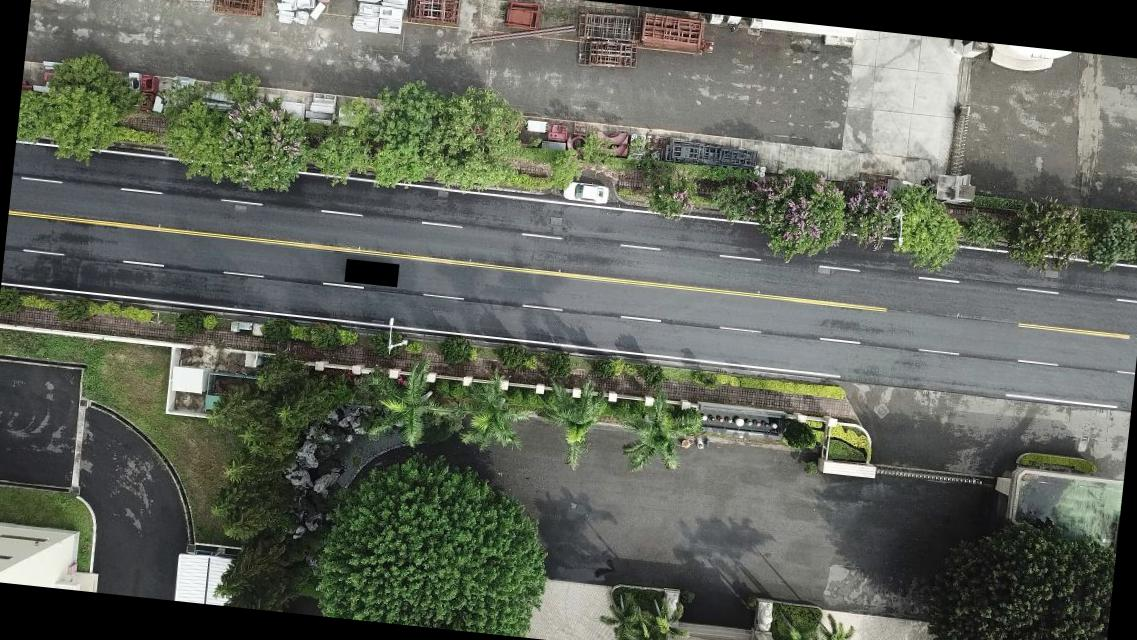vehicle: (562, 178, 612, 205)
